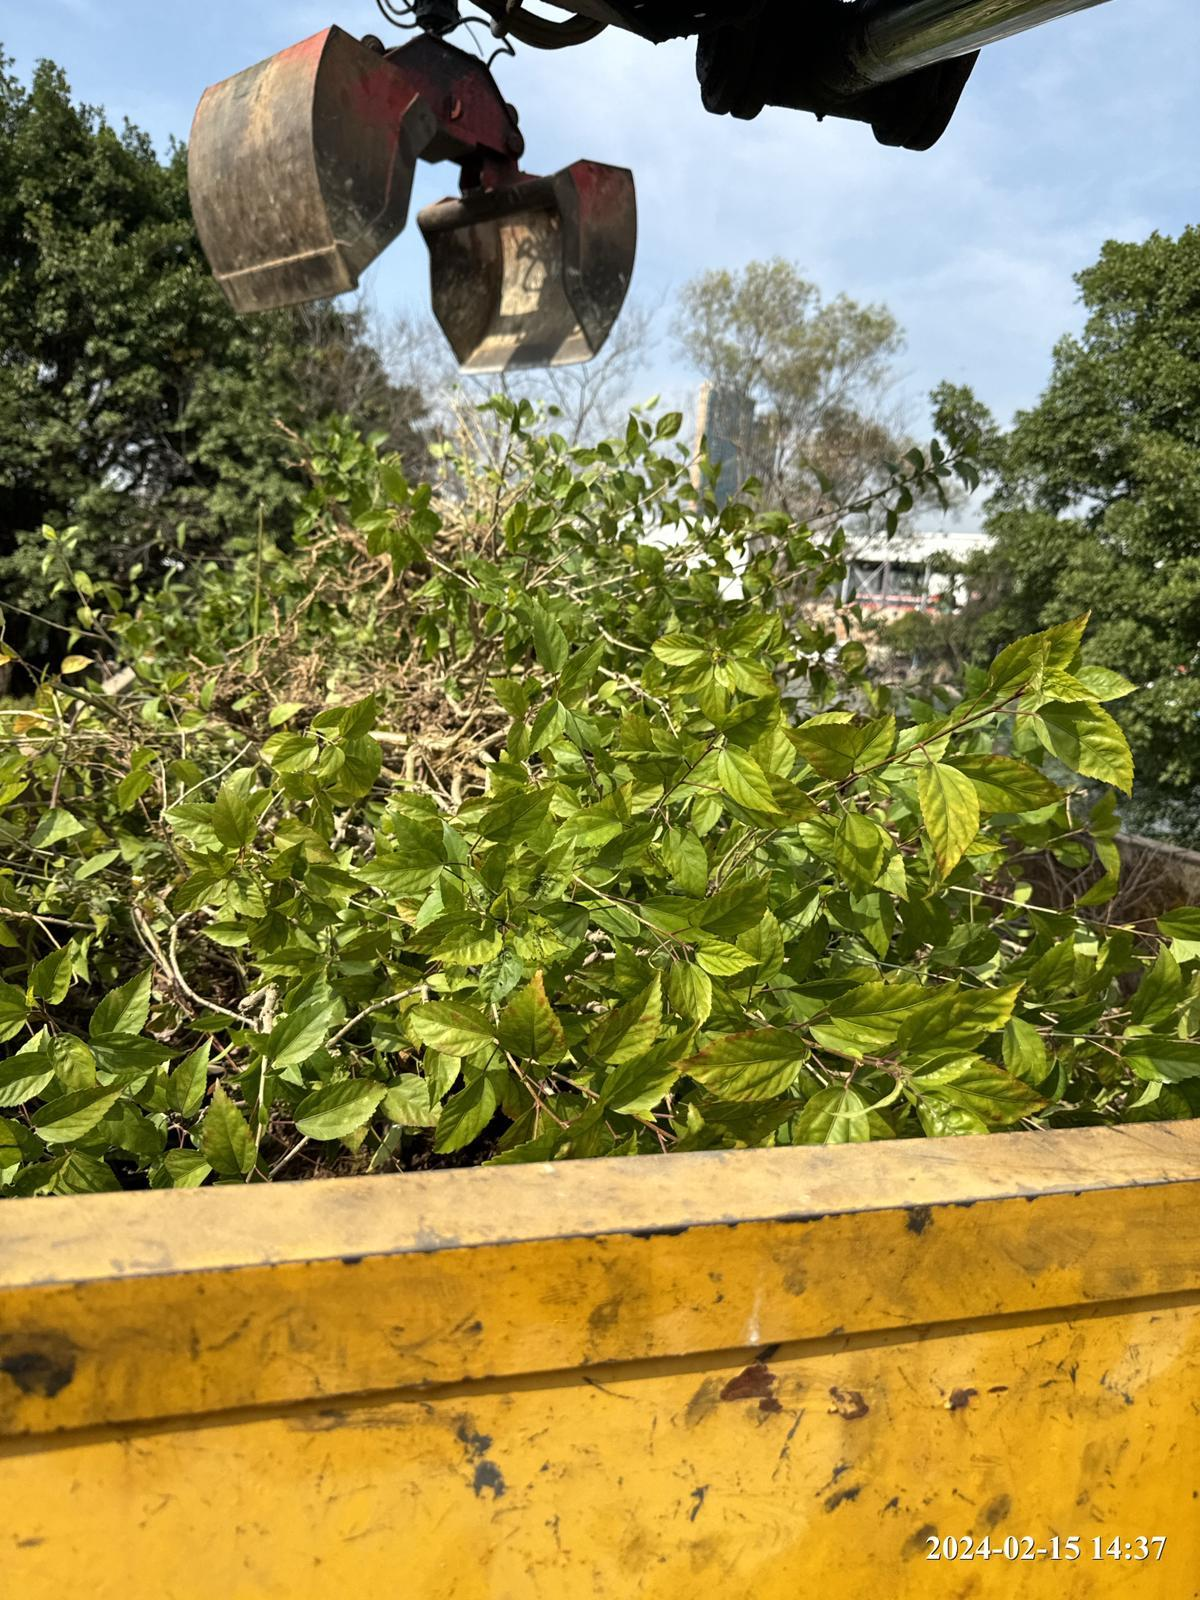wood: (0, 619, 1200, 1141)
